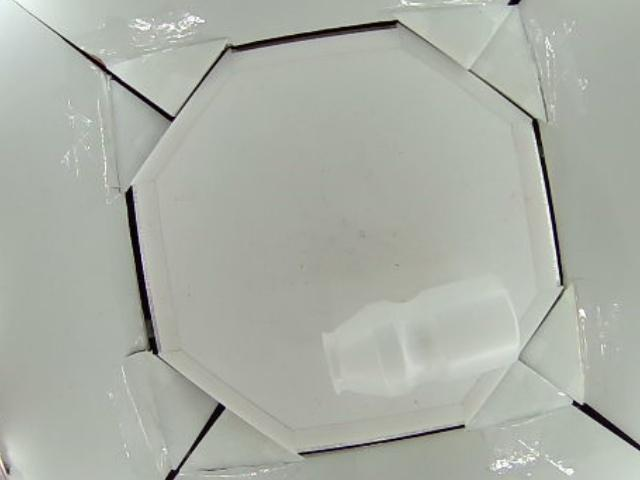Bottle: (319, 272, 524, 392)
